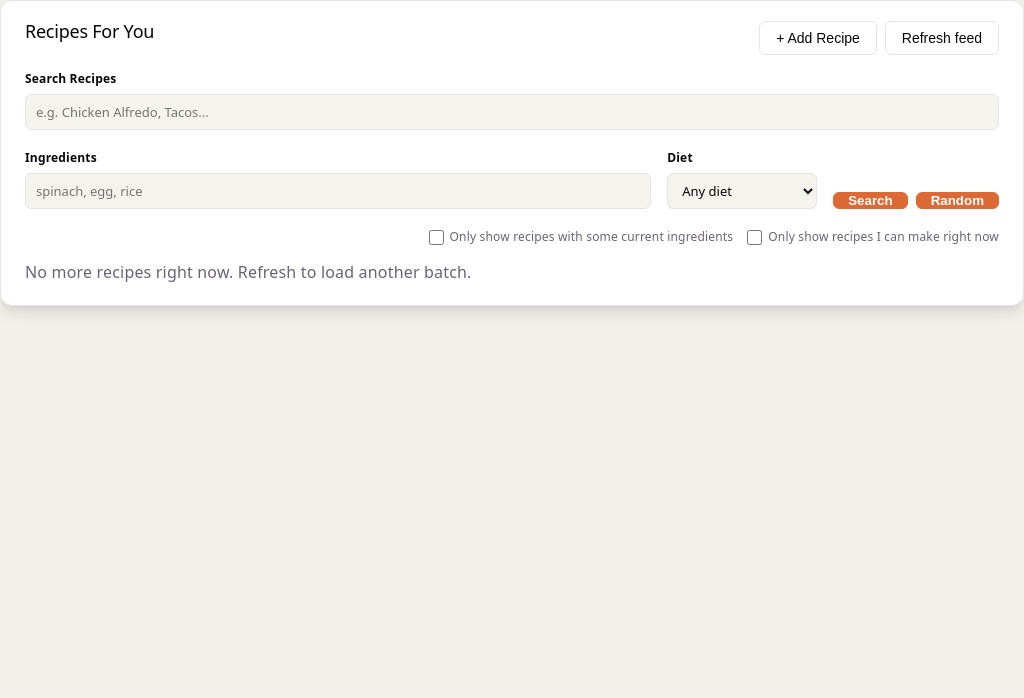
RecipesPanel › adds and removes dynamic array items
Click the button "+ Add Recipe": (818, 38) [759, 21, 877, 55]
(page scrolled)
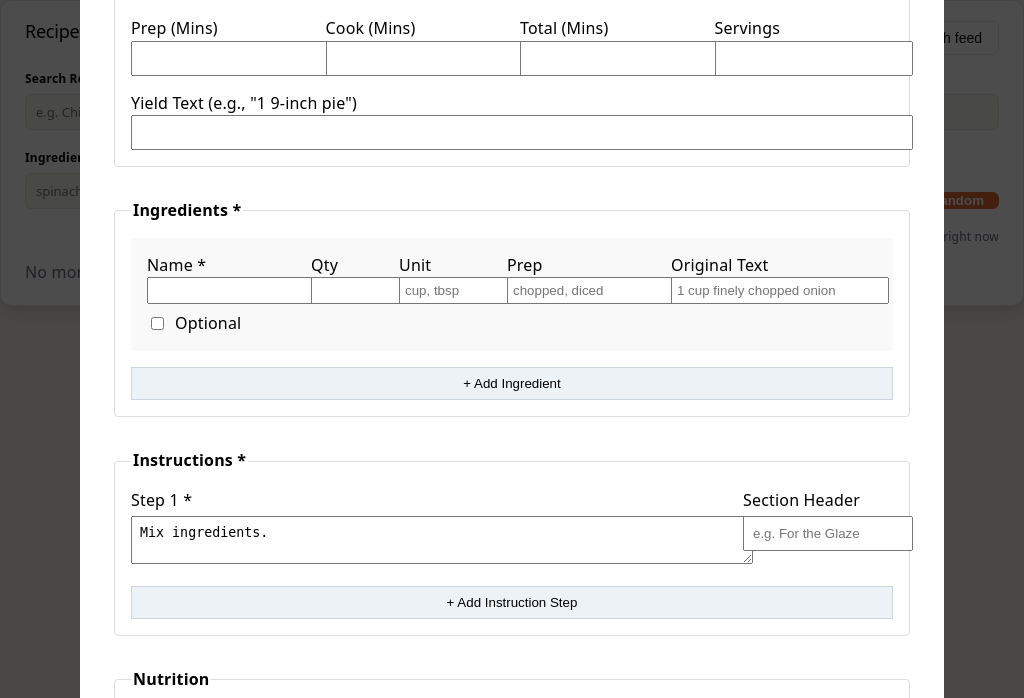
Note: Check adding an ingredient
Click the button "+ Add Ingredient": (512, 384) [131, 368, 893, 400]
(page scrolled)
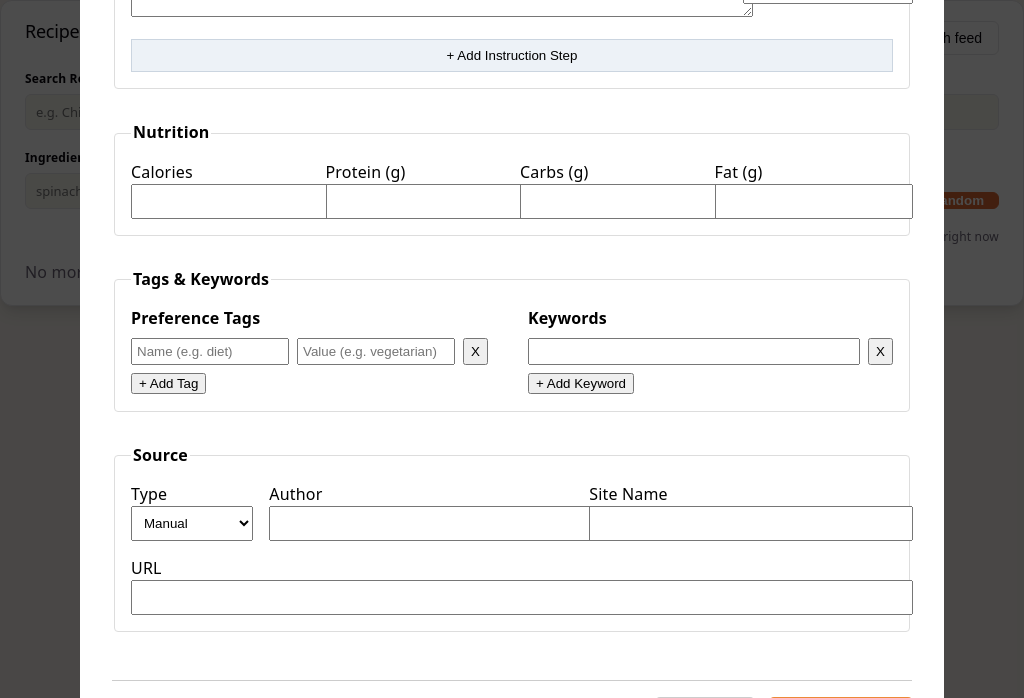
Note: Check adding a preference tag
Click the button "+ Add Tag": (169, 384) [131, 373, 206, 394]
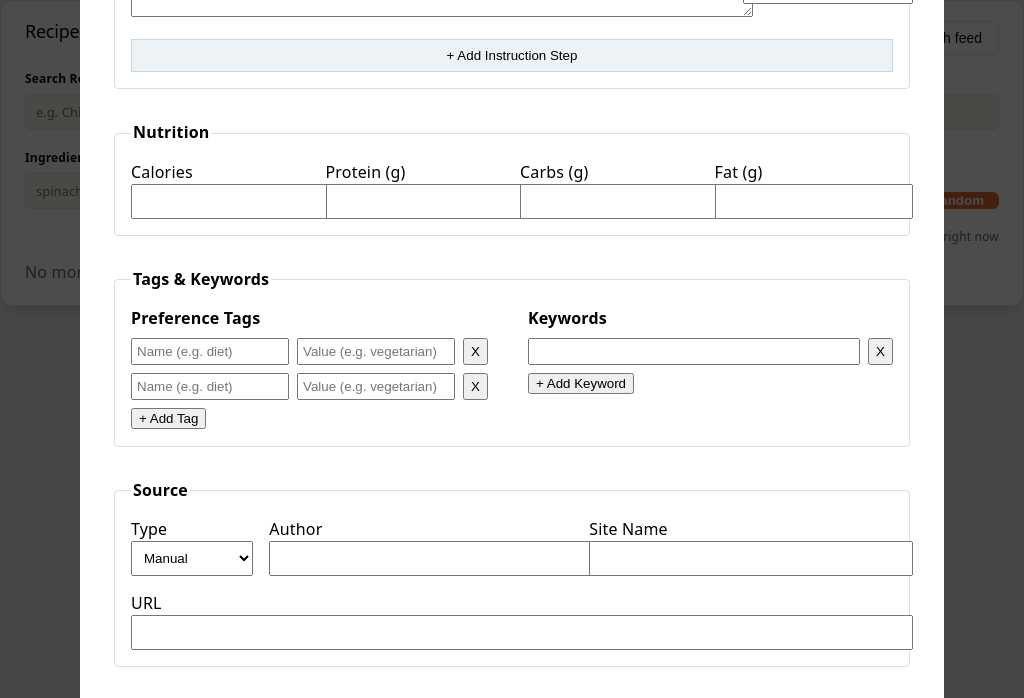
Now the number of fields with placeholder "Name (e.g. diet)" is 2, box [131, 338, 289, 365]; [131, 373, 289, 400]
Note: Check removing a preference tag
Click the 3rd button "X": (475, 387) [463, 373, 488, 400]
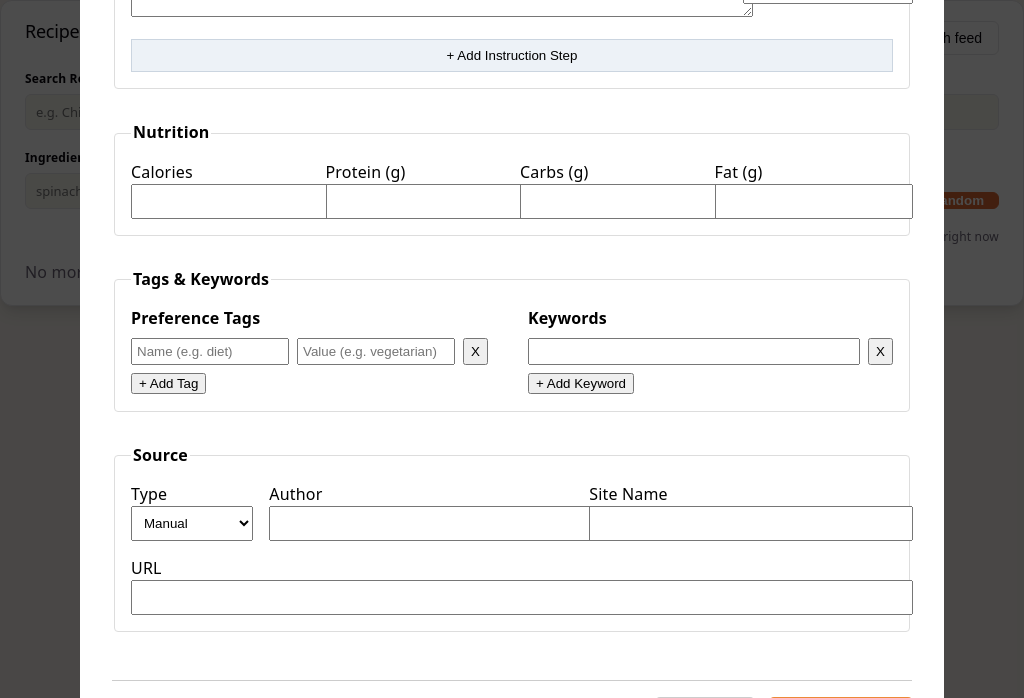
Now the number of fields with placeholder "Name (e.g. diet)" is 1, box [131, 338, 289, 365]
